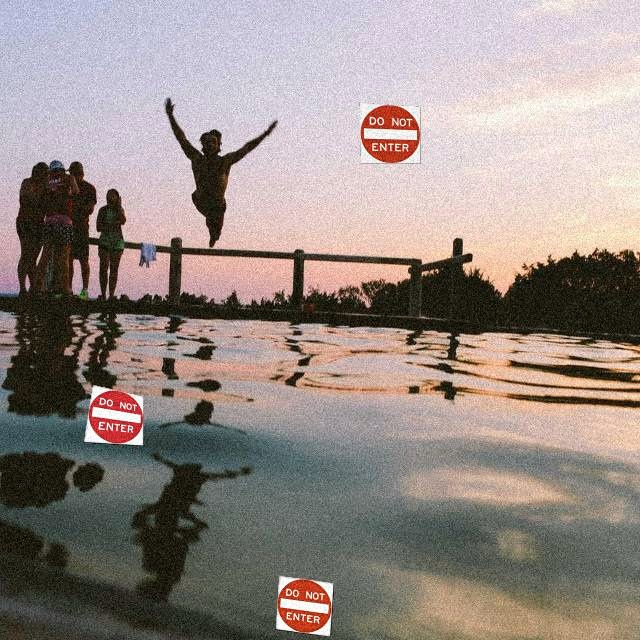DO_NOT_ENTER: (359, 102, 421, 164), (83, 384, 144, 446), (275, 575, 334, 637)
